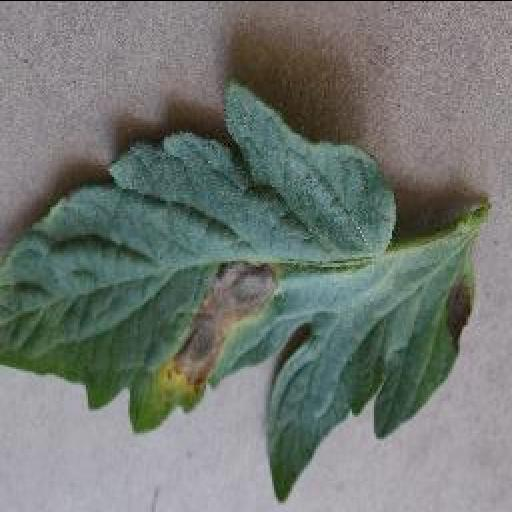disease_tomato: (0, 73, 476, 501)
